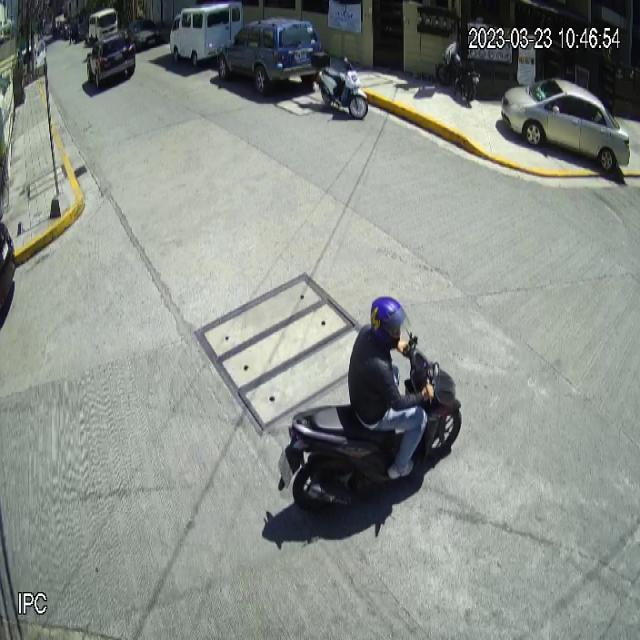Car: (501, 78, 630, 171), (216, 16, 323, 96), (86, 31, 137, 91)
Motorcycle: (278, 332, 464, 516), (312, 54, 368, 120)
Van: (169, 0, 242, 69)
